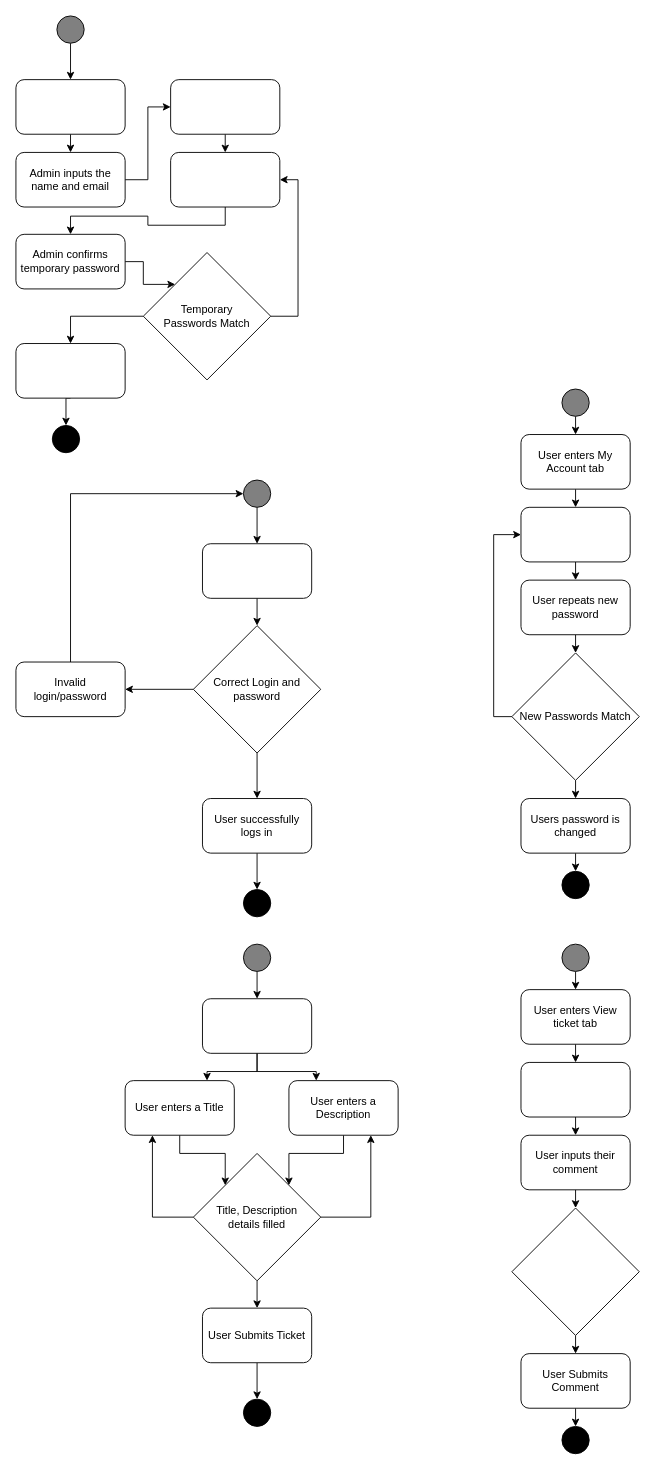
The diagram is 655 pixels wide and 1470 high, and some of its shapes have lost their labels. The shapes that lost their labels are listed below. From the top down, each one's centre as x and y in pixels, then its label:
At pixel 70 106: "Admin enters Create Account tab".
At pixel 225 106: "Admin selects an Account type".
At pixel 225 179: "Admin enters temporary password".
At pixel 70 370: "Account created".
At pixel 575 534: "User inputs their desired new password".
At pixel 257 570: "User enters login name and password".
At pixel 257 1025: "User enters create ticket tab".
At pixel 575 1089: "User selects their ticket".
At pixel 575 1271: "If ticket is closed reopen ticket".
